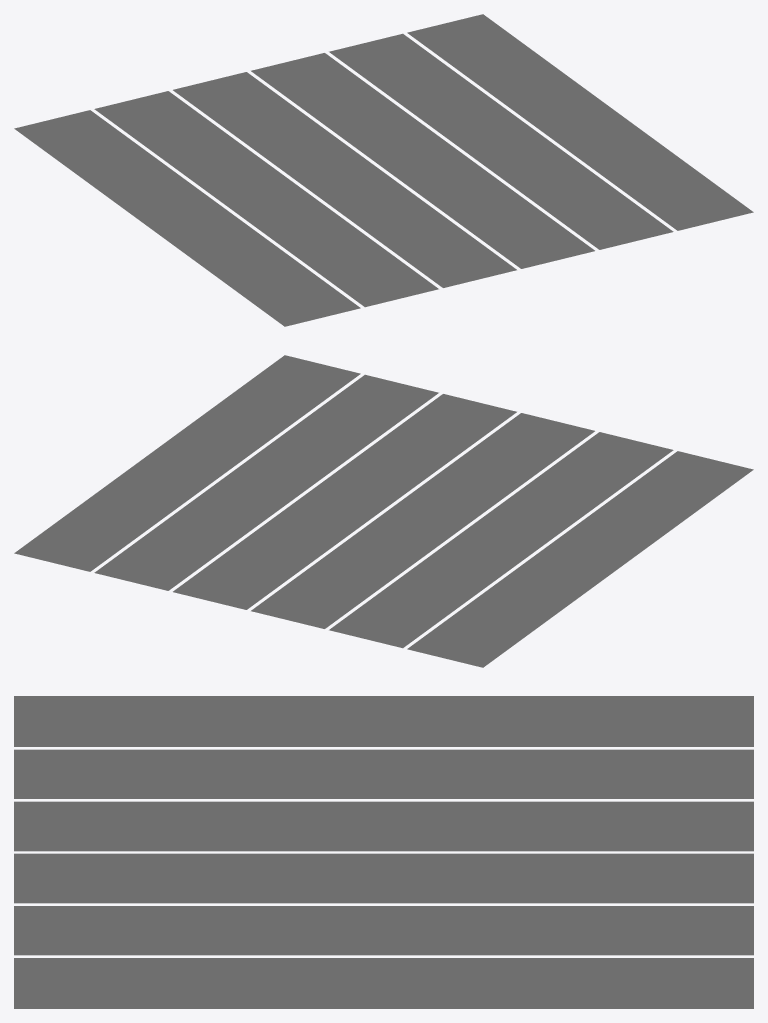
The model's file is wall_009.glb.
The picture shows the model from 3 angles, top to bottom: view 1: azimuth 30°, elevation 25°; view 2: azimuth 150°, elevation 25°; view 3: azimuth 270°, elevation 25°; orthographic projection. The views are drawn at different scales.
Visible parts, largest first — view 1: wall_009; view 2: wall_009; view 3: wall_009.
Part boxes in pixels (x1,y1,x2,y2): wall_009: (14, 14, 753, 326); wall_009: (14, 355, 753, 667); wall_009: (14, 696, 753, 1008).
Size of the model in its own units: 4 by 6.54e-07 by 4.
Materials: 1 (1 with a texture image).
